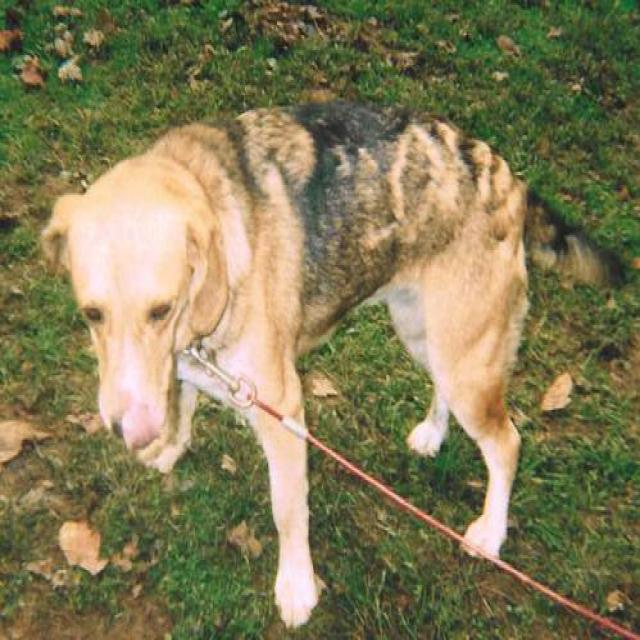dog: (38, 95, 626, 630)
